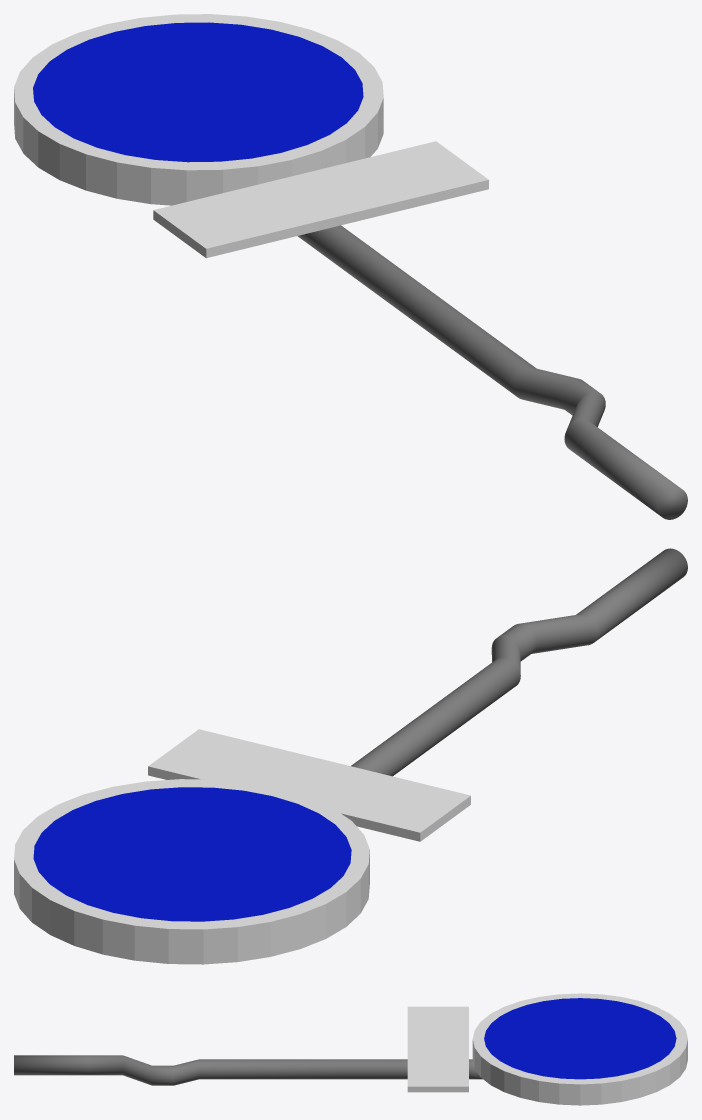
File: SIGN.fbx
3 renders of one model, top to bottom at view 1: azimuth 30°, elevation 25°; view 2: azimuth 150°, elevation 25°; view 3: azimuth 270°, elevation 25°, orthographic. The views are drawn at different scales.
Visible parts, largest first — view 1: Circle, Plane, Cylinder; view 2: Circle, Plane, Cylinder; view 3: Circle, Cylinder, Plane.
Boxes of the visible parts, <box> form: Circle: <box>14,14,383,205</box>; Plane: <box>153,141,488,258</box>; Cylinder: <box>297,225,687,519</box>; Circle: <box>14,779,369,964</box>; Plane: <box>148,729,470,841</box>; Cylinder: <box>351,548,687,776</box>; Circle: <box>472,993,687,1105</box>; Cylinder: <box>14,1055,482,1085</box>; Plane: <box>407,1006,468,1092</box>.
Bounding box in the file's own units: 2 × 0.4016 × 6.26.
